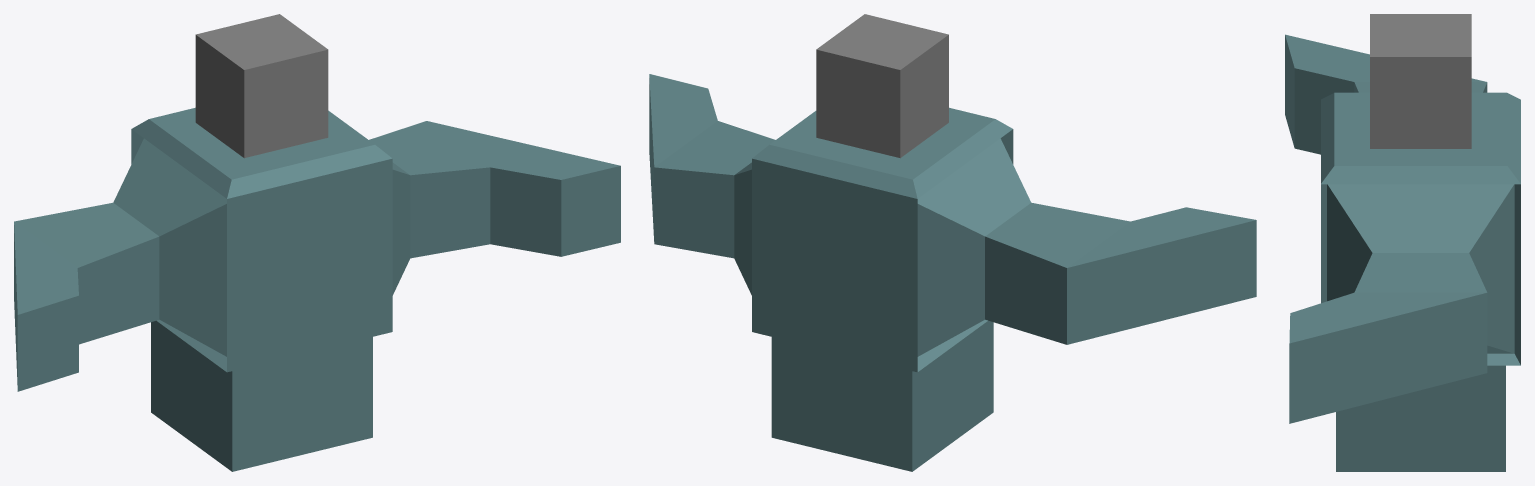
The model's file is Low-poly_Char_01.fbx.
3 views of the same model, side by side, from view 1: azimuth 30°, elevation 25°; view 2: azimuth 150°, elevation 25°; view 3: azimuth 270°, elevation 25° (orthographic). The views are drawn at different scales.
Parts seen in each view (by area): view 1: pCube18, pCube17; view 2: pCube18, pCube17; view 3: pCube18, pCube17.
Boxes of the visible parts, x1,y1,x2,y2 form: pCube18: [14, 107, 620, 471]; pCube17: [195, 14, 328, 158]; pCube18: [649, 74, 1256, 471]; pCube17: [816, 14, 948, 158]; pCube18: [1285, 34, 1520, 471]; pCube17: [1370, 14, 1471, 148].
Size of the model in its own units: 7.19 by 4.35 by 2.32.
